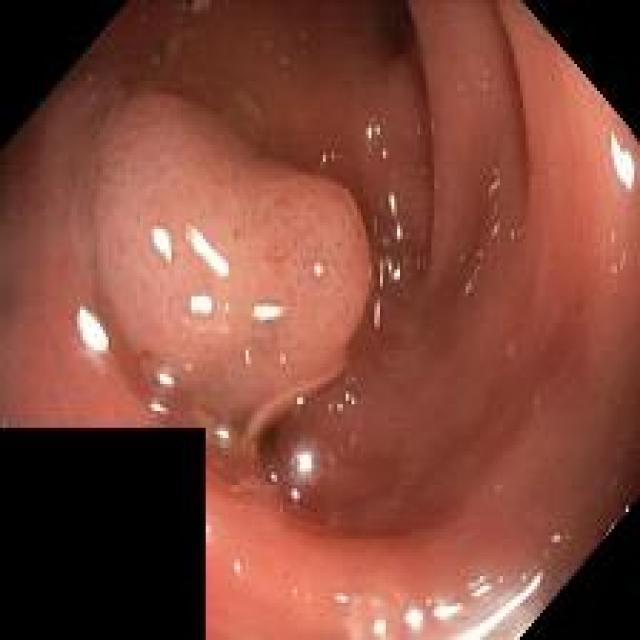Polyps: (91, 93, 371, 455)
